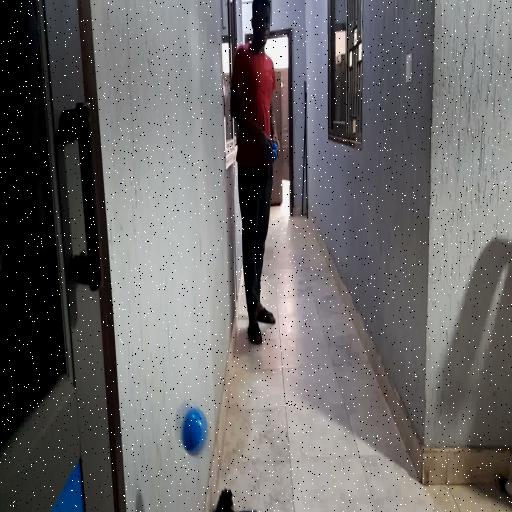plastic-ball: (175, 401, 209, 461)
